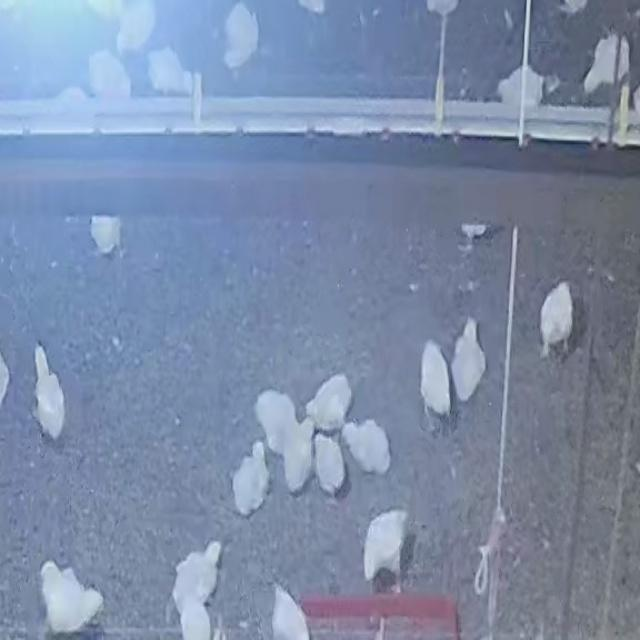chicken: (170, 545, 222, 639), (39, 559, 102, 633), (362, 508, 408, 585), (33, 346, 67, 442), (449, 317, 486, 403), (581, 32, 630, 96), (255, 386, 297, 456), (539, 280, 575, 361), (419, 338, 452, 424), (306, 372, 353, 432), (232, 440, 269, 516), (344, 418, 392, 476), (222, 2, 259, 68), (271, 584, 313, 640), (494, 63, 546, 105), (314, 432, 347, 496), (115, 0, 154, 53), (284, 420, 310, 496), (90, 214, 122, 255)
